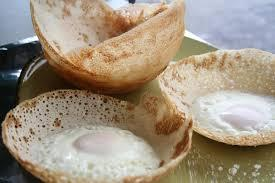Hoppers: (5, 75, 187, 183), (23, 2, 204, 96), (151, 48, 275, 162)
